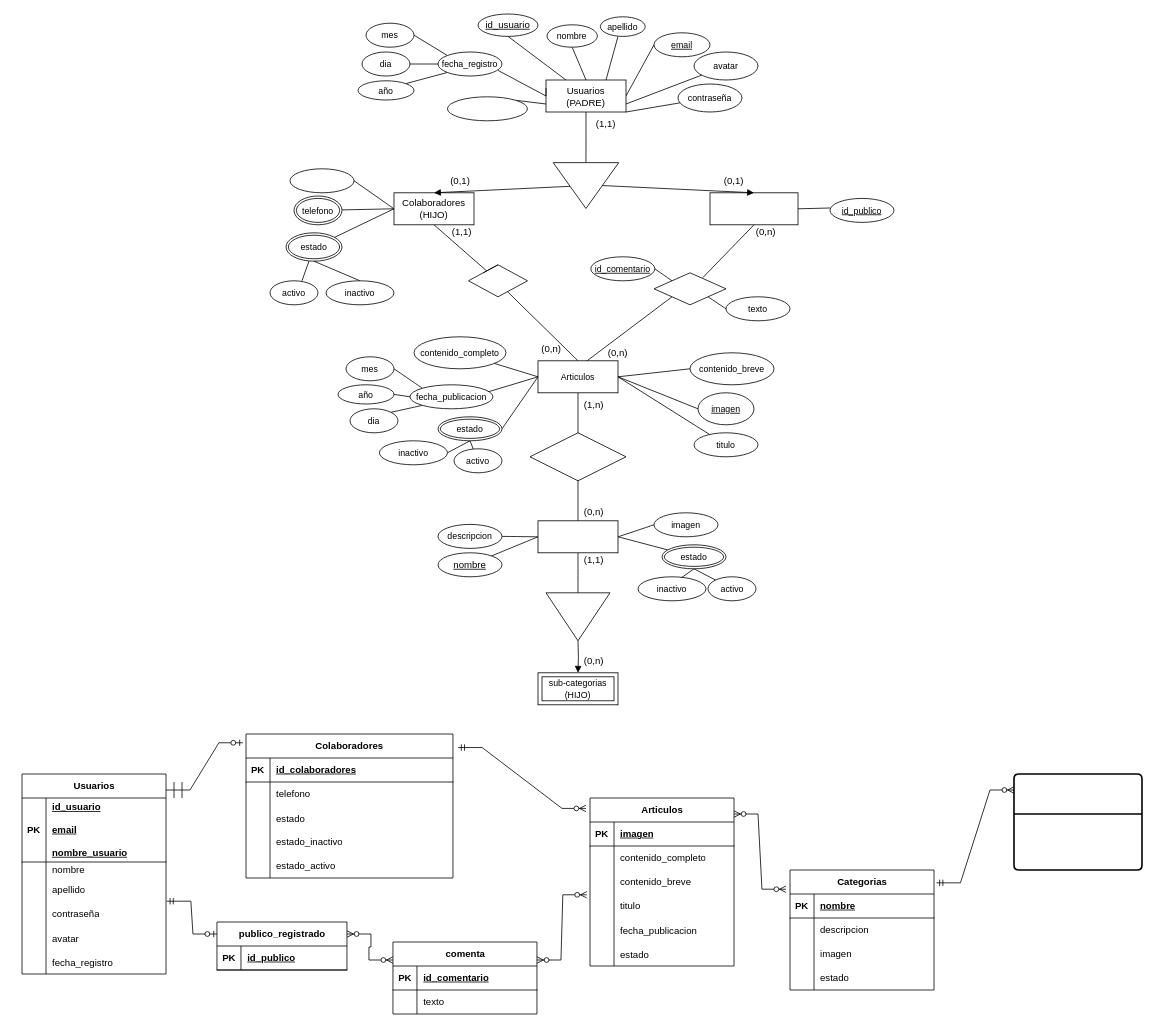
This 1157x1028 diagram has some shape labels left out. The centre of each missing label's shape, as x and y in pixels:
"Categorias (PADRE)" belongs at [577,536].
"comentan" belongs at [689,288].
"contiene" belongs at [577,456].
"id_colaborador" belongs at [321,180].
"nombre_usuario" belongs at [487,108].
"pertenece" belongs at [577,616].
"publican" belongs at [498,280].
"publico_registrado (HIJO)" belongs at [753,208].
"rol" belongs at [585,185].
"sub categorias" belongs at [1077,821].
